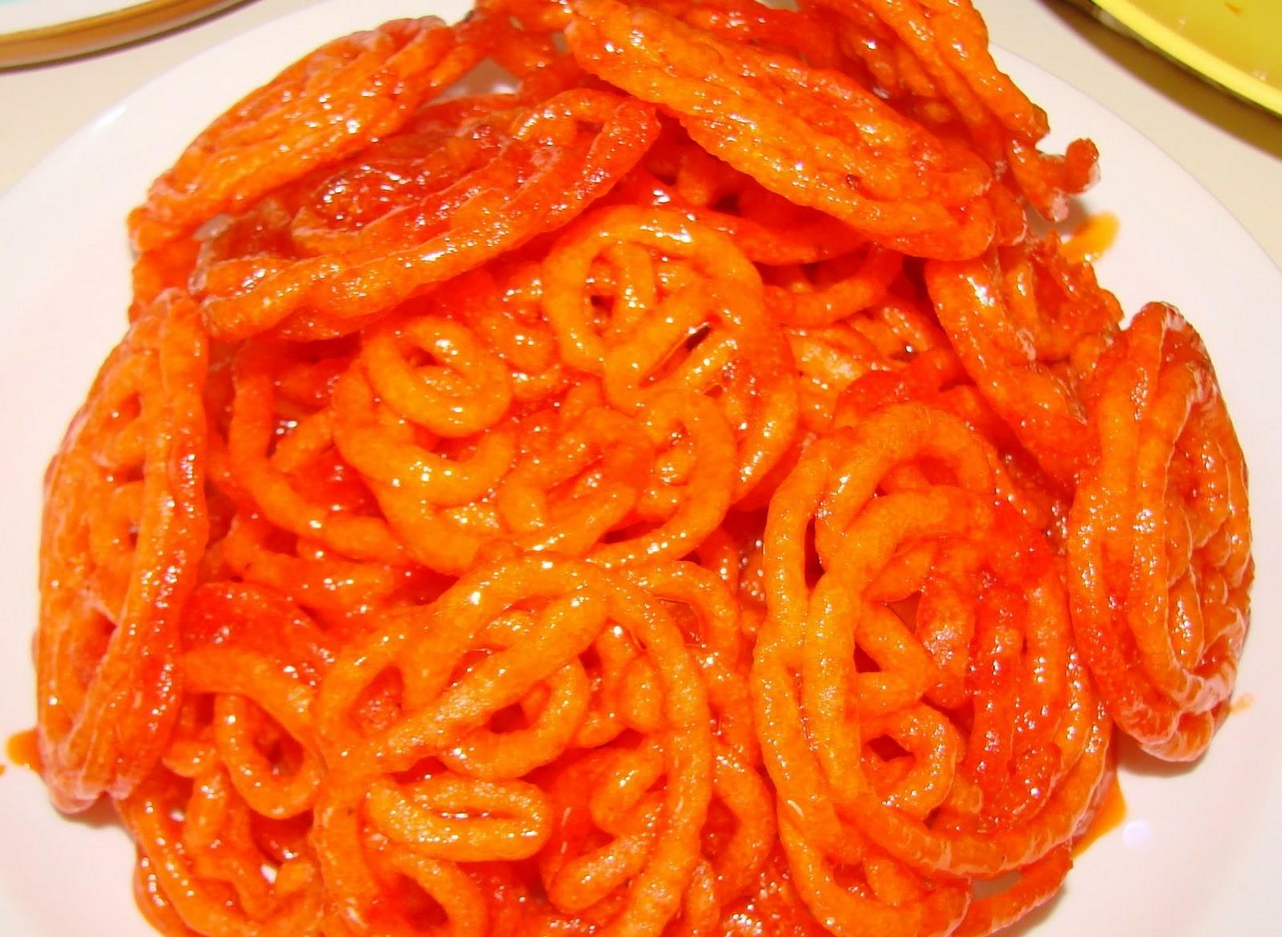Jalebi: (5, 0, 1255, 937)
